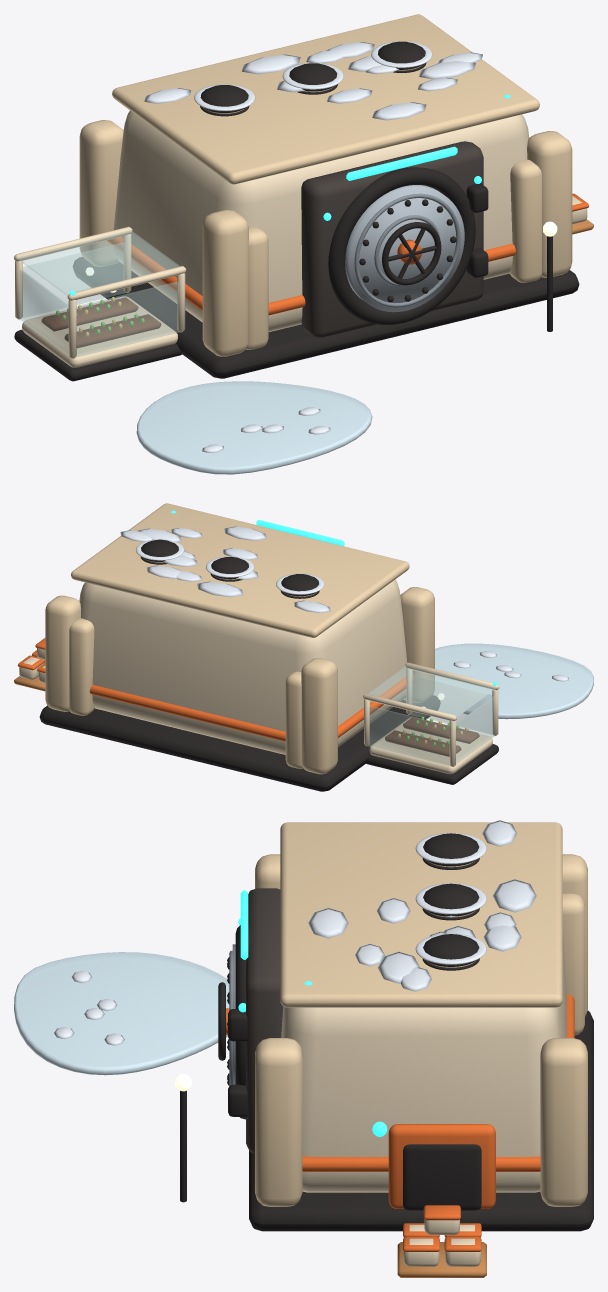
The model's file is seedvault.glb.
The picture shows the model from 3 angles, top to bottom: view 1: azimuth 30°, elevation 25°; view 2: azimuth 150°, elevation 25°; view 3: azimuth 270°, elevation 25°; orthographic projection. The views are drawn at different scales.
Parts seen in each view (by area): view 1: Cube.003, Cube.001, Cube, Cylinder.006, Cube.034, Cube.012, Sphere.021, Cylinder, Cube.044, Cube.002, Torus.001, Cube.015; view 2: Cube.001, Cube.003, Cube, Cube.034, Cylinder.006, Sphere.021, Cube.002, Cube.044, Cube.015; view 3: Cube.003, Cube.001, Cube, Cylinder.006, Sphere.021, Cube.002, Cube.012, Cube.021, Cube.015.
Boxes of the visible parts, x1,y1,x2,y2 form: Cube.003: (79,14,572,356); Cube.001: (14,110,587,367); Cube: (14,41,579,381); Cylinder.006: (136,381,372,474); Cube.034: (18,230,179,357); Cube.012: (301,141,483,337); Sphere.021: (144,41,482,452); Cylinder: (345,185,464,312); Cube.044: (41,297,161,348); Cube.002: (106,193,588,315); Torus.001: (354,193,460,307); Cube.015: (69,94,510,295); Cube.001: (19,579,499,774); Cube.003: (45,503,434,774); Cube: (39,539,498,791); Cube.034: (368,666,495,766); Cylinder.006: (435,643,593,719); Sphere.021: (120,526,568,681); Cube.002: (17,638,414,741); Cube.044: (385,717,479,756); Cube.015: (170,510,497,685); Cube.003: (255,822,587,1206); Cube.001: (281,933,566,1266); Cube: (180,833,593,1231); Cylinder.006: (14,952,229,1075); Sphere.021: (54,820,536,1045); Cube.002: (226,994,574,1251); Cube.012: (246,888,283,1153); Cube.021: (397,1242,486,1277); Cube.015: (238,890,387,1136).
Size of the model in its own units: 2.55 by 0.9 by 1.95.
